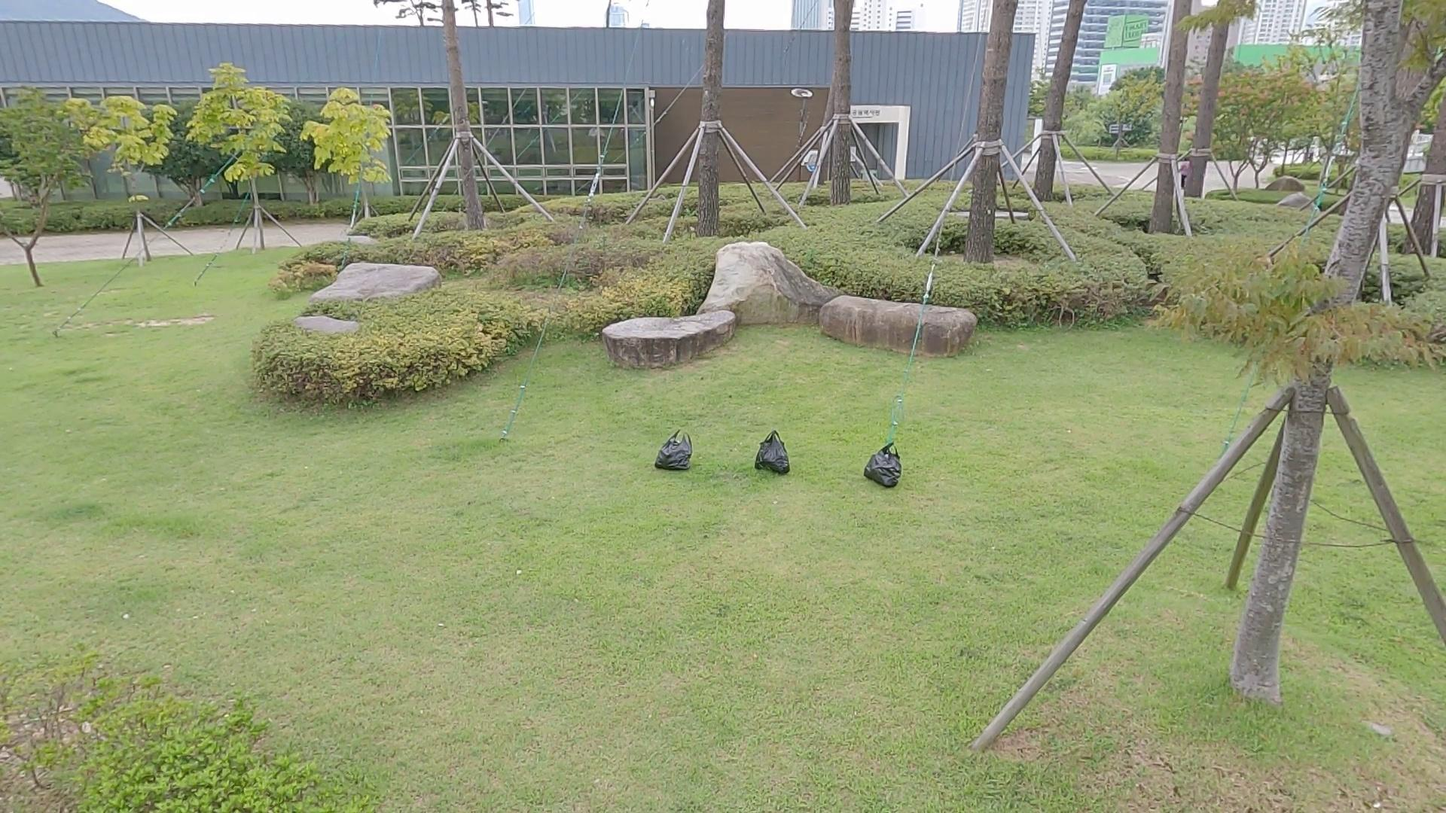trash: (650, 424, 703, 479), (861, 436, 907, 494), (750, 425, 796, 477)
